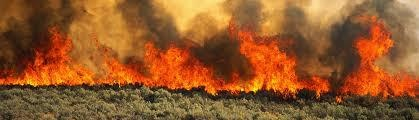fire: (338, 13, 417, 100)
